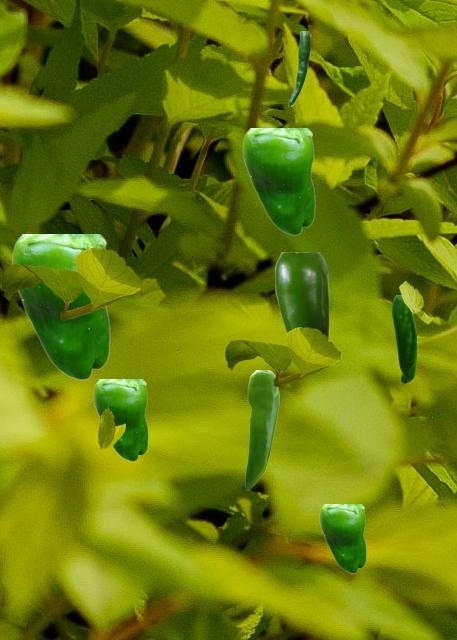green_chili: (11, 234, 109, 379), (242, 128, 314, 234), (275, 252, 328, 338), (93, 379, 147, 460), (245, 370, 278, 489), (319, 504, 365, 572), (392, 295, 415, 382), (288, 31, 309, 105)
